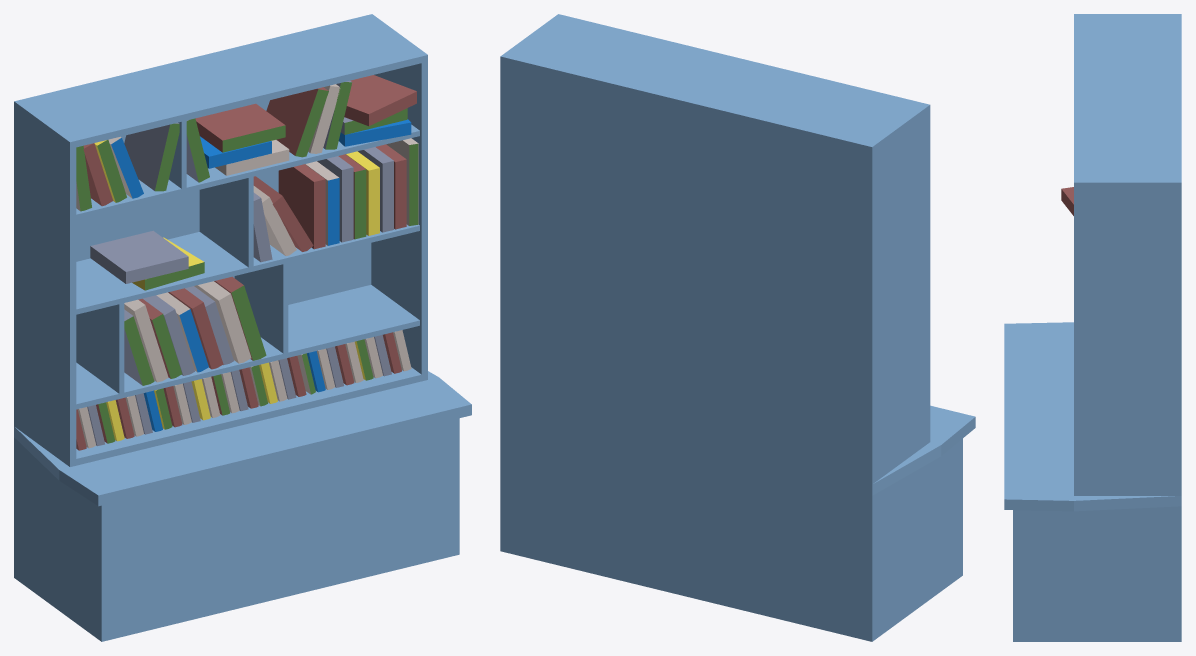
File: Book shelf.fbx
3 views of the same model, side by side, from view 1: azimuth 30°, elevation 25°; view 2: azimuth 150°, elevation 25°; view 3: azimuth 270°, elevation 25° (orthographic). The views are drawn at different scales.
Visible parts, largest first — view 1: Book Shelf; view 2: Book Shelf; view 3: Book Shelf.
Boxes of the visible parts, x1,y1,x2,y2 form: Book Shelf: (14,14,471,641); Book Shelf: (500,14,975,641); Book Shelf: (1004,14,1181,641).
Bounding box in the file's own units: 203 × 243 × 85.04.
